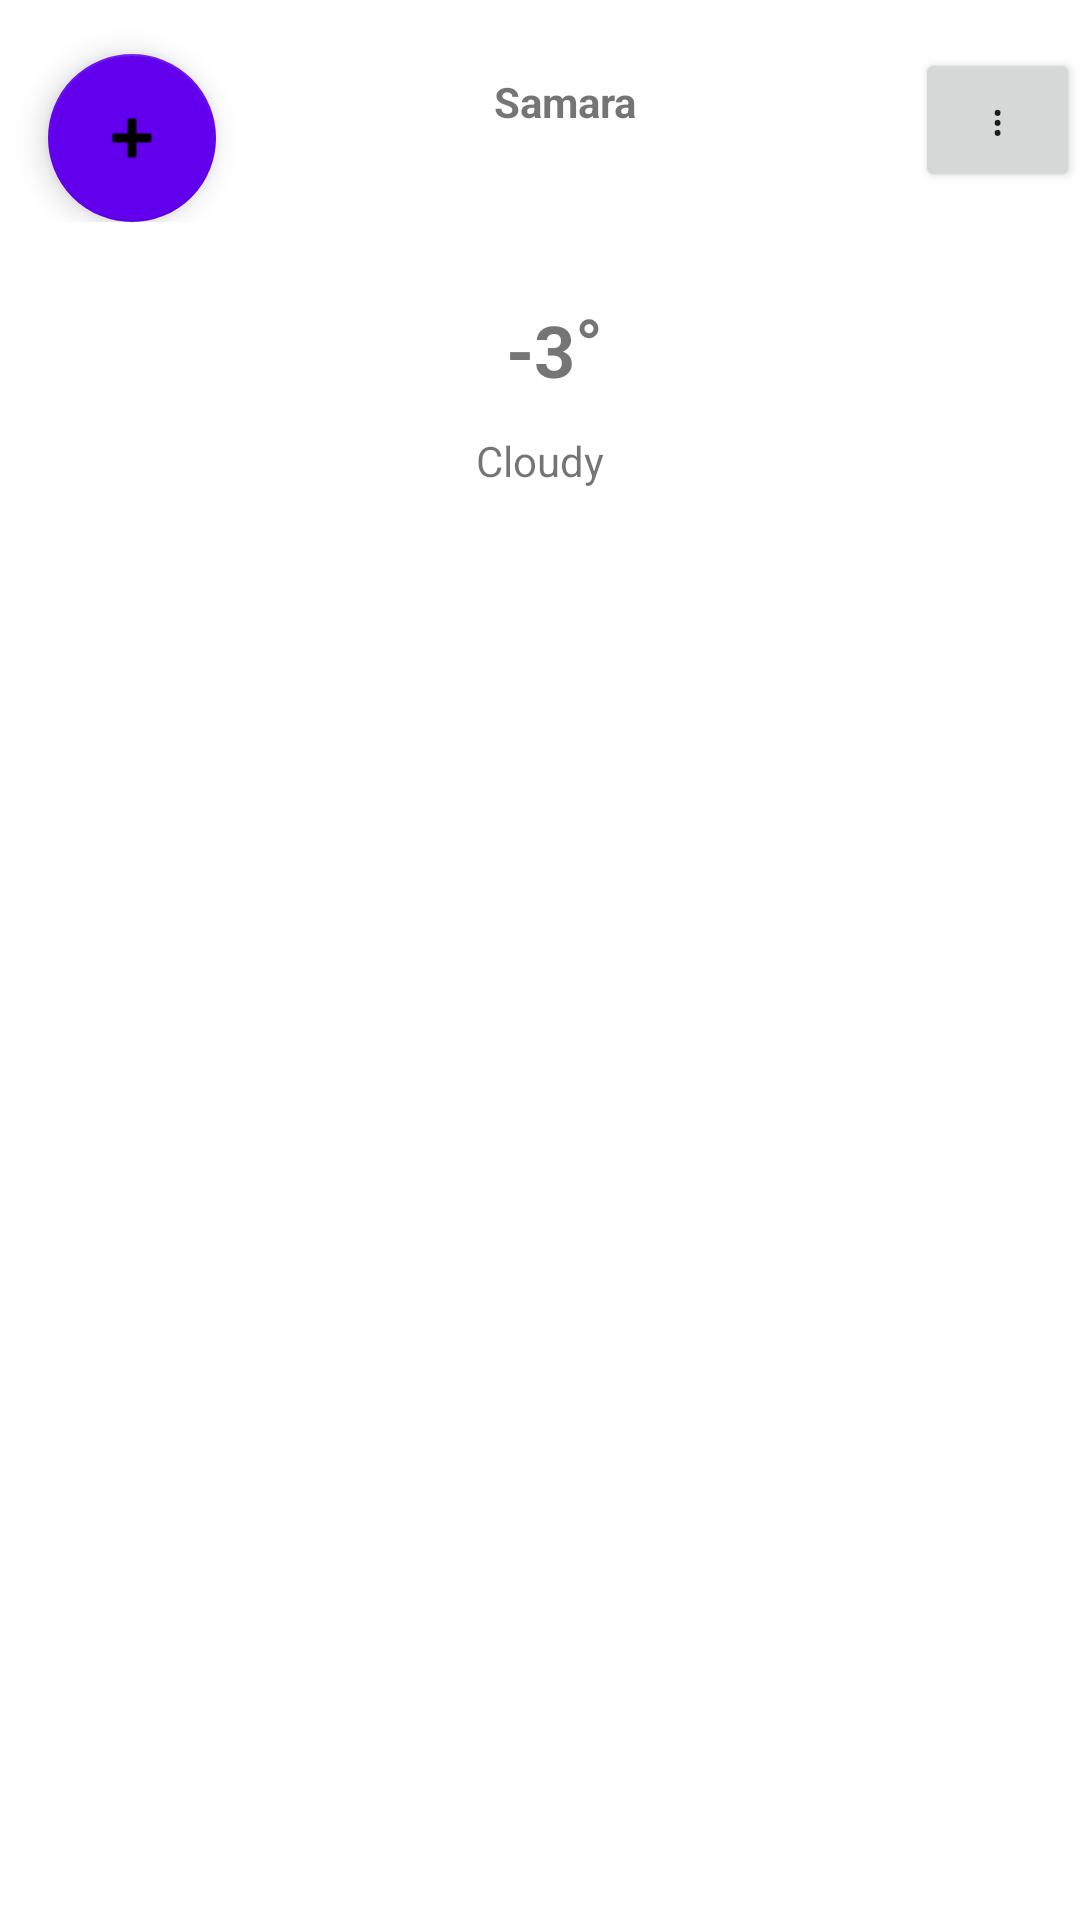

Screen size 1080*1920. Icon name, then its box in pixels as (x1, y1, x2, y2):
Add city: (48, 54, 216, 222)
